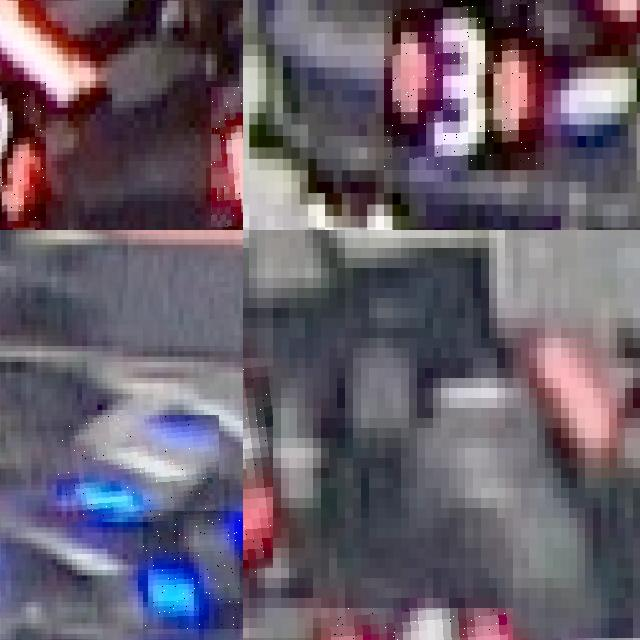B1: (57, 415, 219, 522), (143, 511, 243, 628)
R3: (384, 0, 544, 170), (0, 81, 46, 221), (211, 87, 243, 227)
R4: (321, 608, 513, 640)
